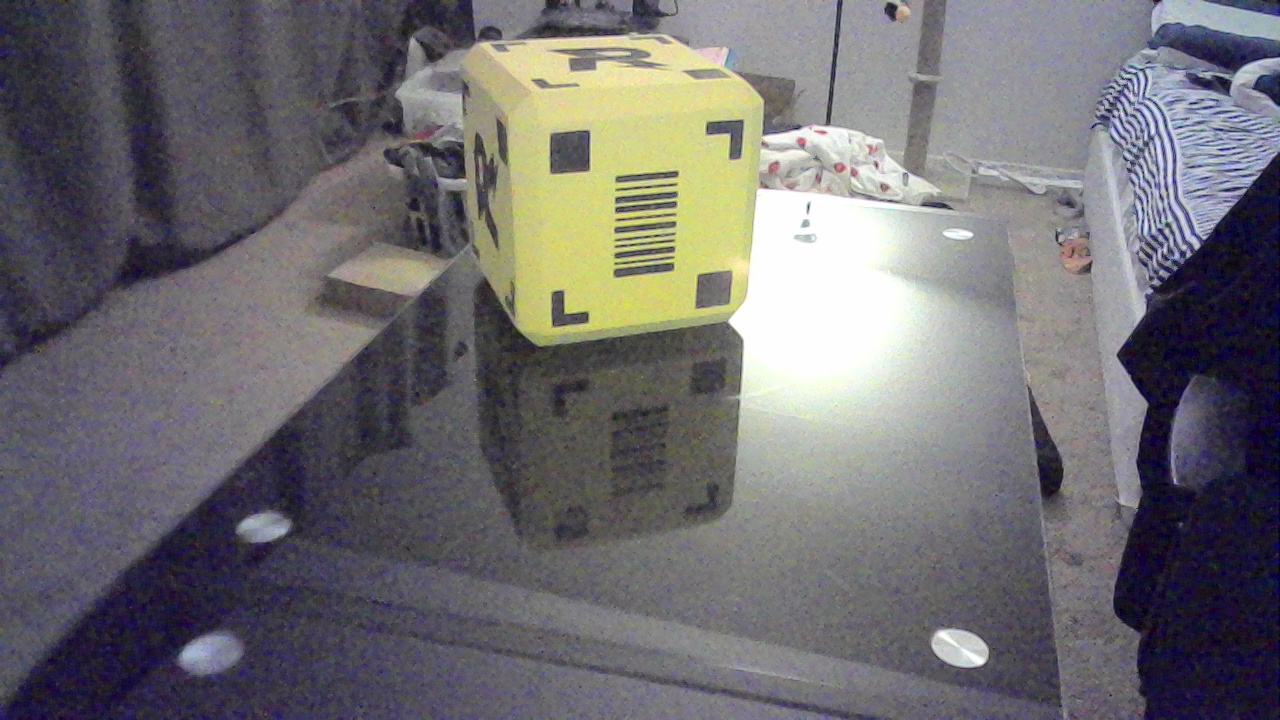Barcode: (619, 168, 684, 295)
R: (467, 137, 512, 273), (560, 48, 684, 86)
